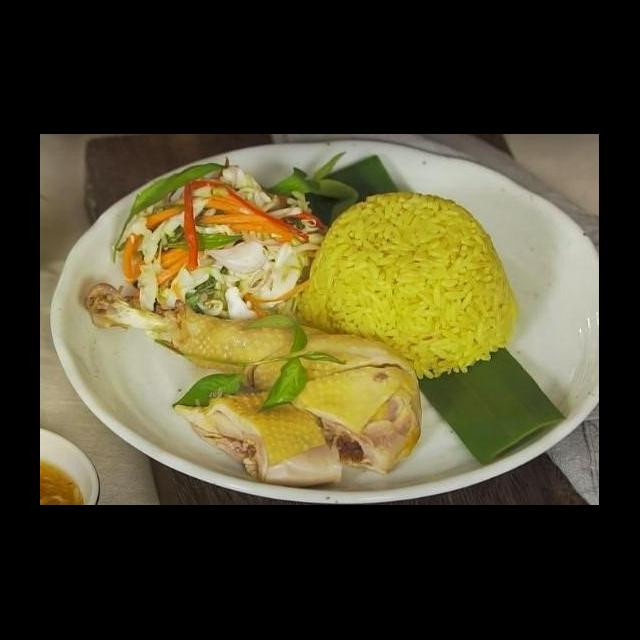com: (280, 188, 524, 382)
com ga: (49, 182, 526, 504)
rau ram: (168, 312, 350, 416), (110, 152, 236, 266), (262, 147, 362, 230), (150, 226, 250, 262)
thit ga: (80, 278, 427, 476), (172, 388, 346, 488)
